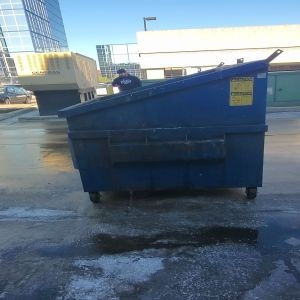Dumpster: (59, 91, 269, 206)
Person: (111, 67, 141, 88)
